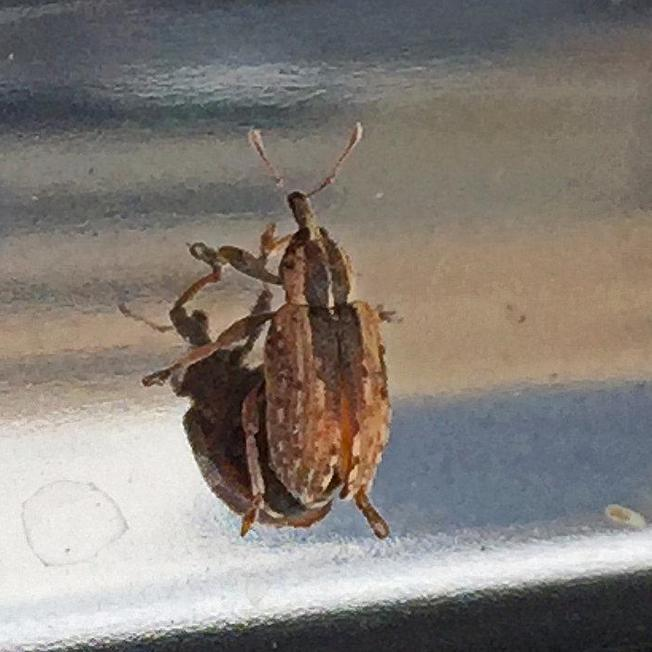weevils: (100, 97, 462, 582)
